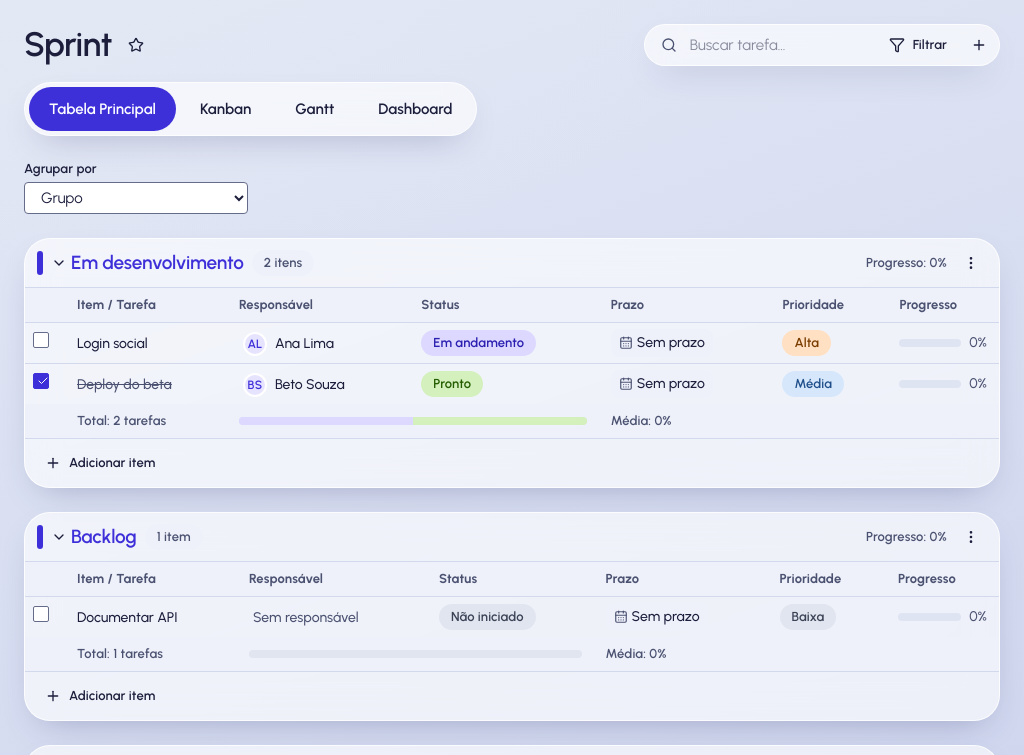
Test case: busca e filtros nas visões do board › Tabela › digitar na busca deixa só o que casa e some com os grupos sem resultado
Expected: the heading "Em desenvolvimento" is shown, [71,251,244,275]
Type "deploy" into the search field named "Buscar neste quadro". click: (761, 45)
box: [649,29,873,61]
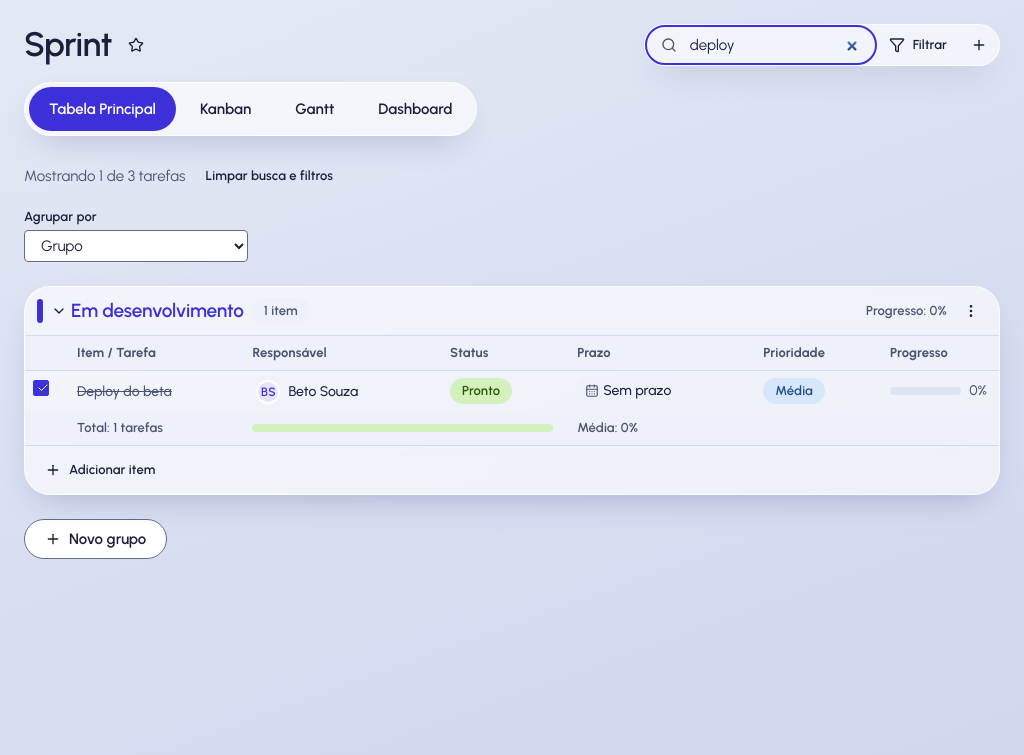
Expected: the text "Mostrando 1 de 3 tarefas" is shown, [24,165,186,187]
